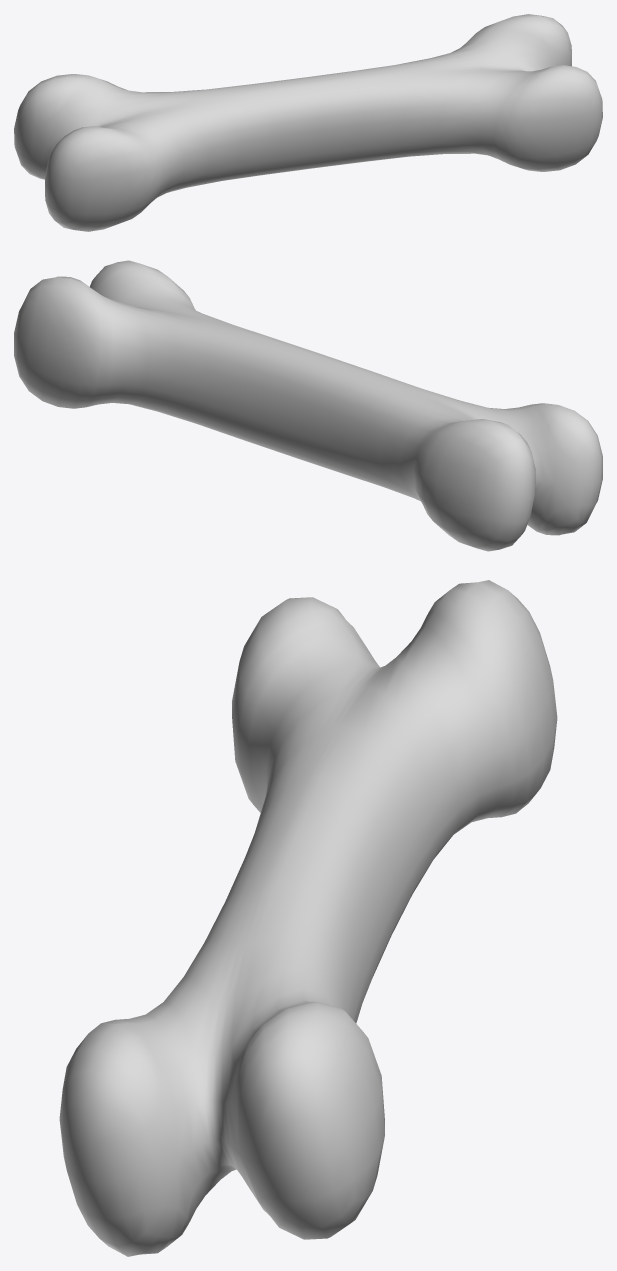
The model's file is PrimitiveToy.fbx.
The picture shows the model from 3 angles, top to bottom: view 1: azimuth 30°, elevation 25°; view 2: azimuth 150°, elevation 25°; view 3: azimuth 270°, elevation 25°; orthographic projection. The views are drawn at different scales.
Parts seen in each view (by area): view 1: Untitled.001; view 2: Untitled.001; view 3: Untitled.001.
Part boxes in pixels (box(x1,y1,x2,y2)): Untitled.001: box(14, 14, 602, 231); Untitled.001: box(14, 260, 602, 551); Untitled.001: box(59, 580, 557, 1256).
Size of the model in its own units: 10.23 by 2.45 by 4.26.
Materials: 1 (1 with a texture image).
